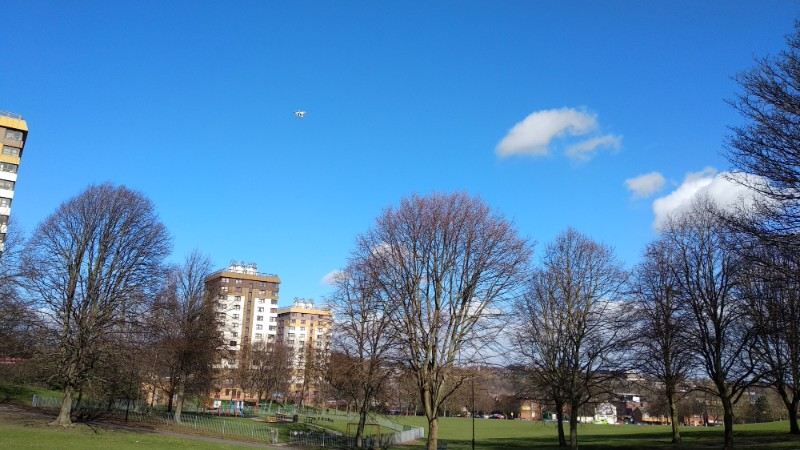drone: (294, 109, 307, 120)
